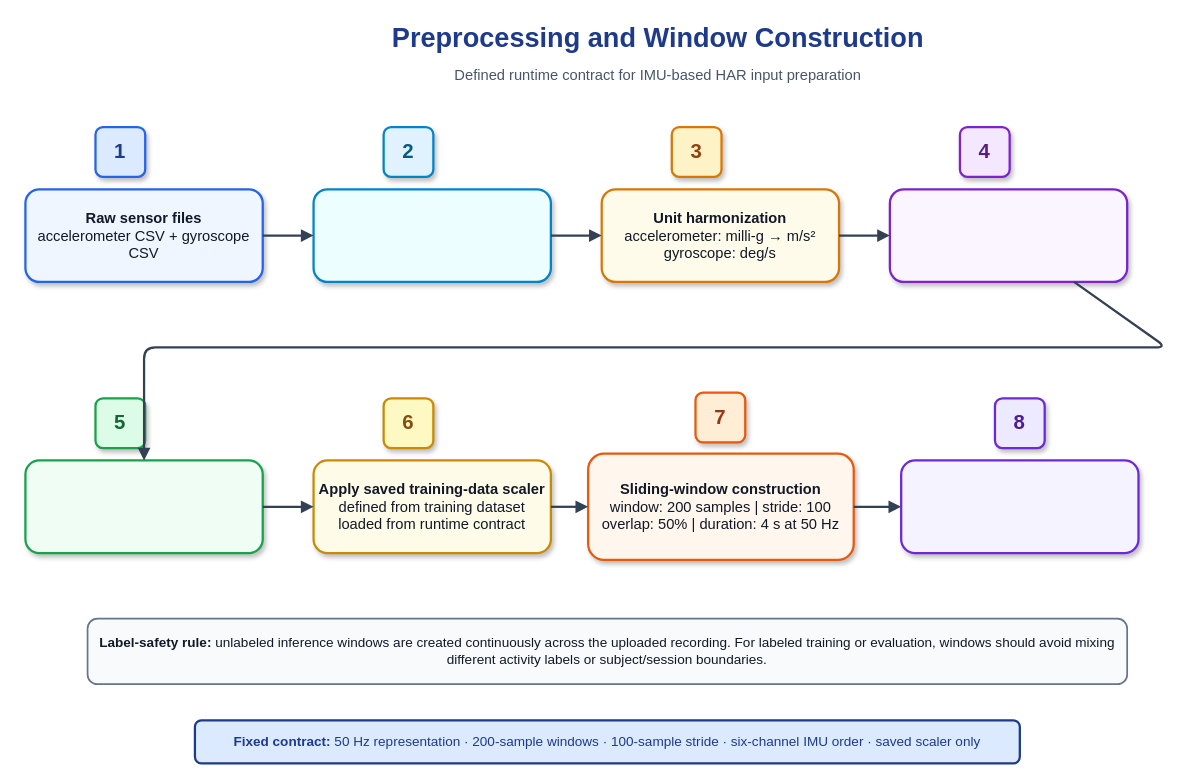
The diagram is 1196 pixels wide and 783 high, and some of its shapes have lost their labels. The shapes that lost their labels are listed below. From the top down, each one's centre as x and y in pixels, then its label:
At [432,236]: "Schema alignment map source columns to canonical names".
At [1009,236]: "Temporal alignment resample / align to 50 Hz".
At [144,508]: "Canonical channel ordering Ax, Ay, Az, Gx, Gy, Gz".
At [1020,508]: "Model-ready tensor (N, 200, 6)".
